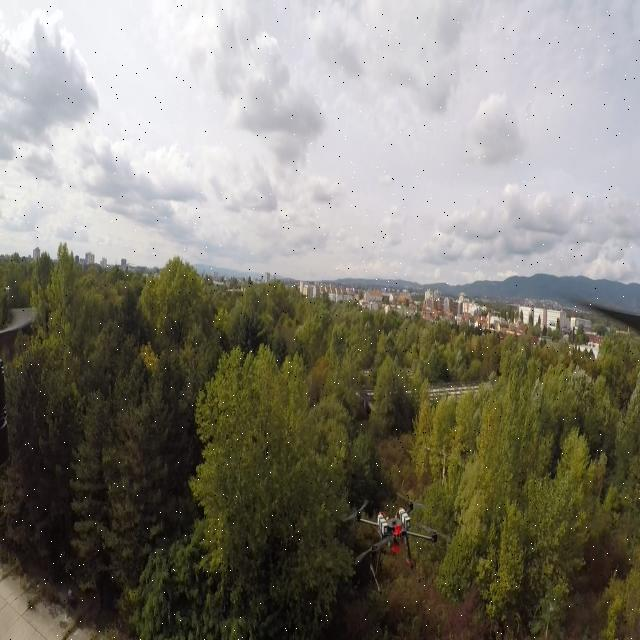UAV: (342, 489, 452, 597)
